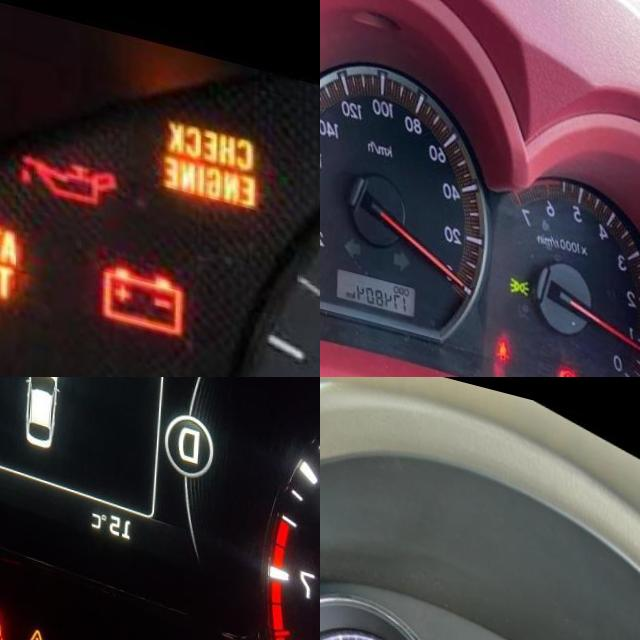Central Warning lamp: (27, 606, 53, 640)
Seat Belt: (500, 315, 513, 341)
